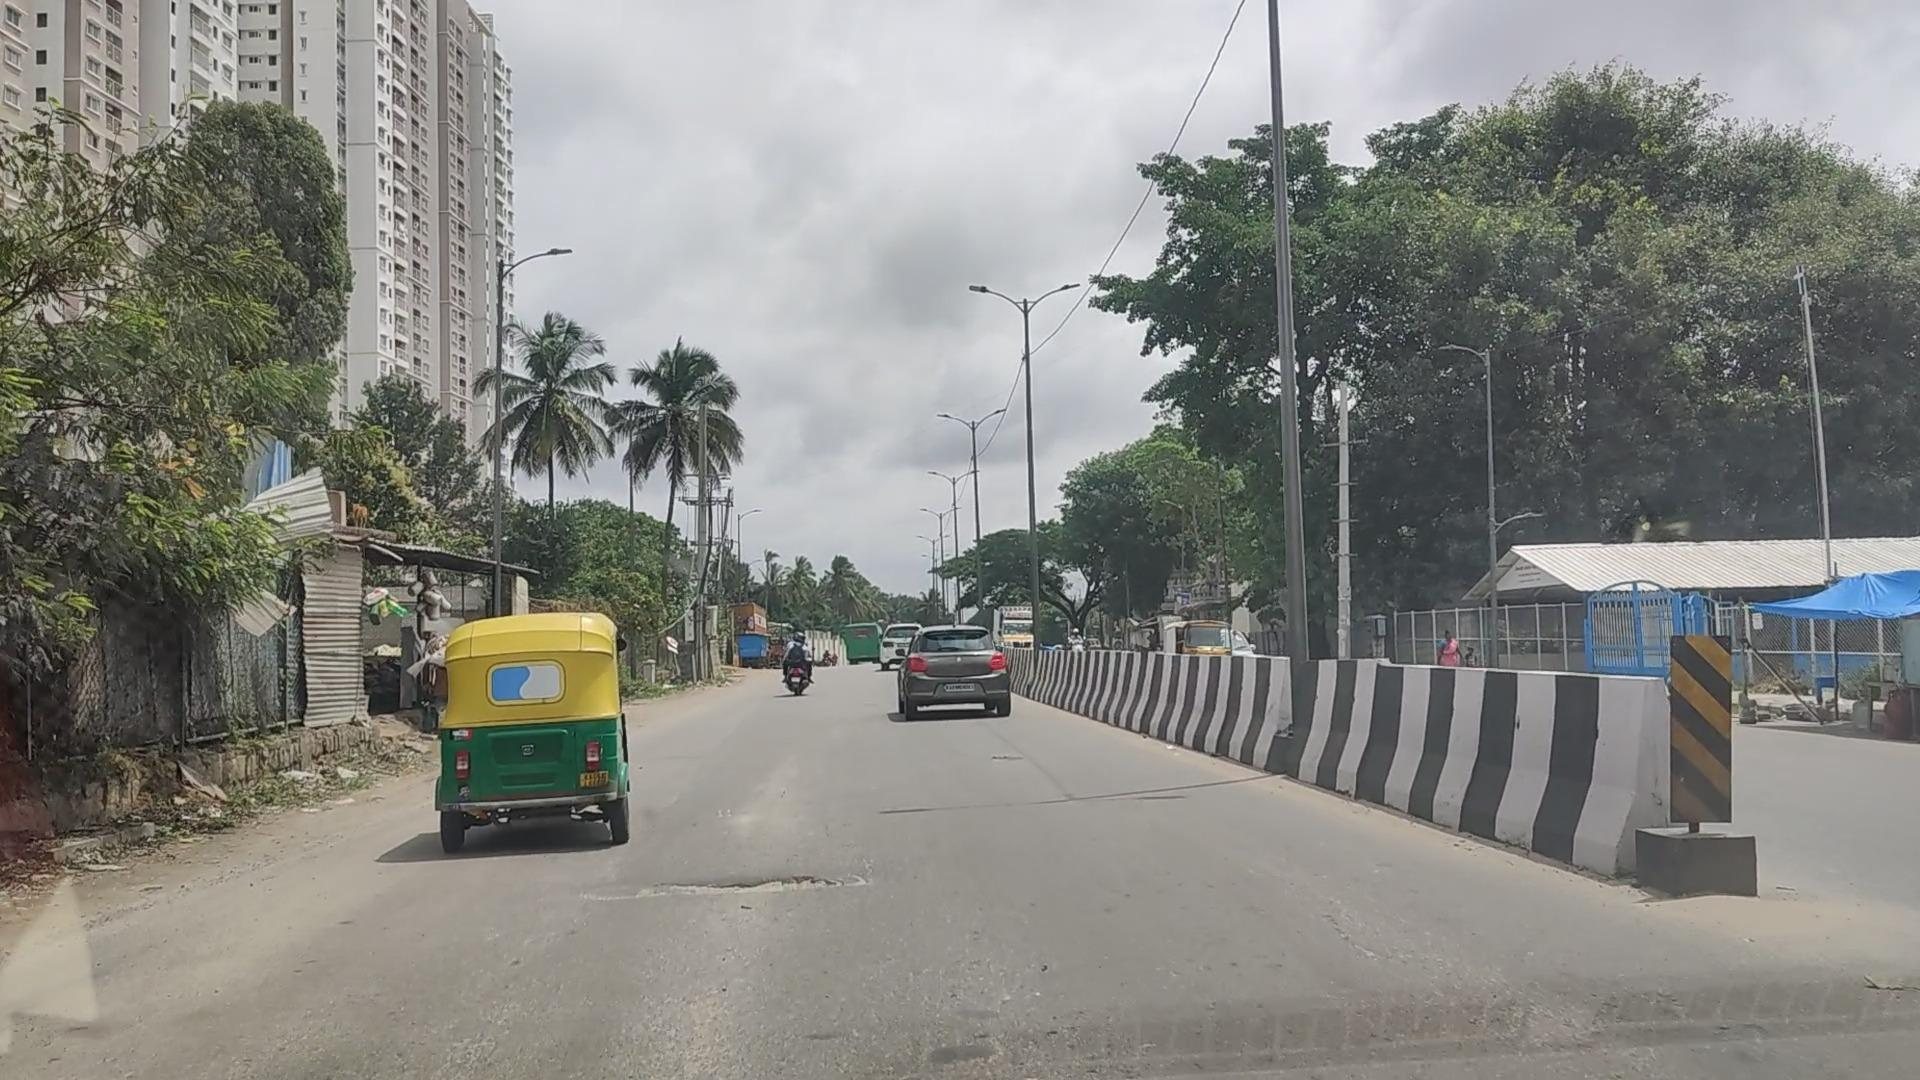LMV: (443, 611, 628, 845), (903, 632, 1010, 709), (789, 626, 822, 688)
RoadDamages: (584, 862, 891, 914)
